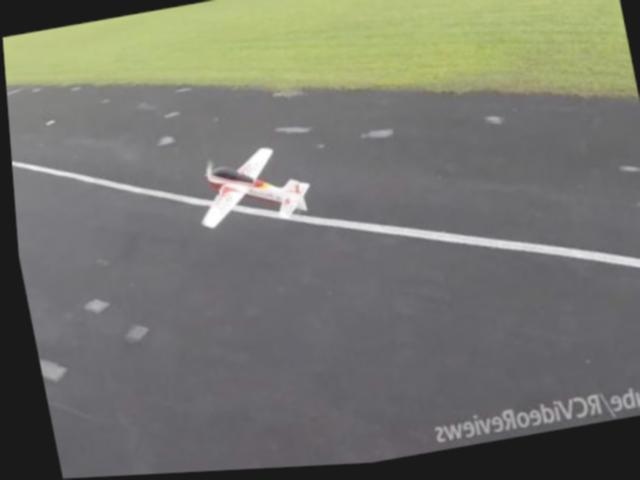uav: (179, 133, 318, 248)
